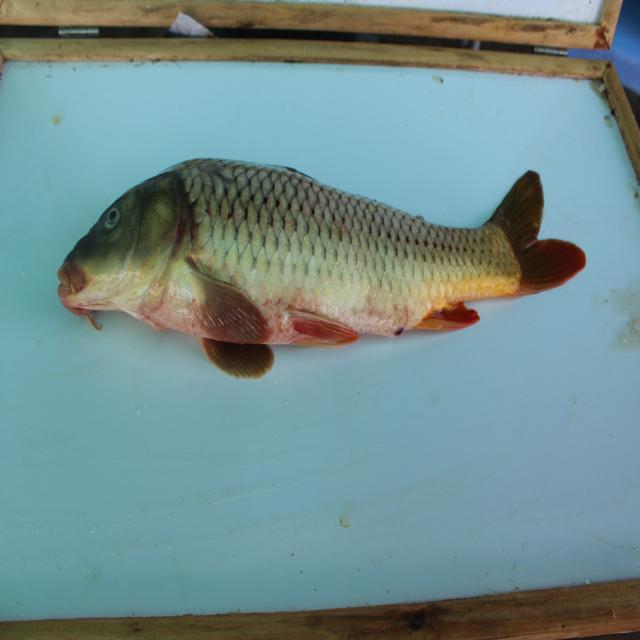Grass Carp: (56, 155, 589, 380)
